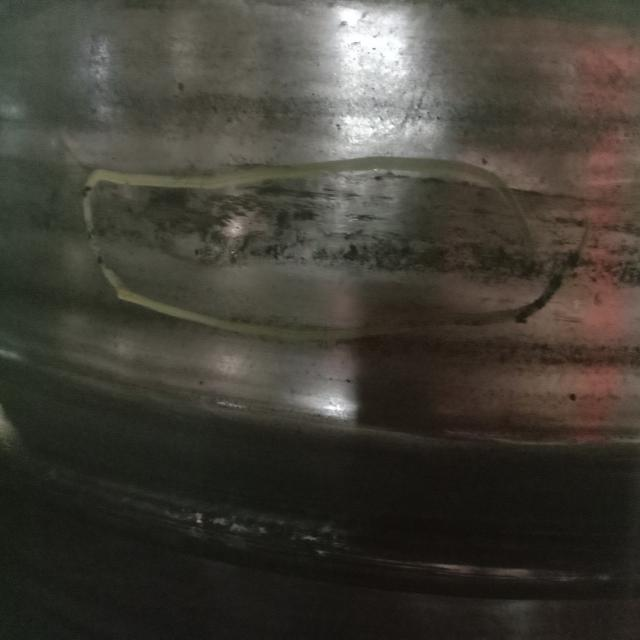flat: (143, 194, 528, 297)
